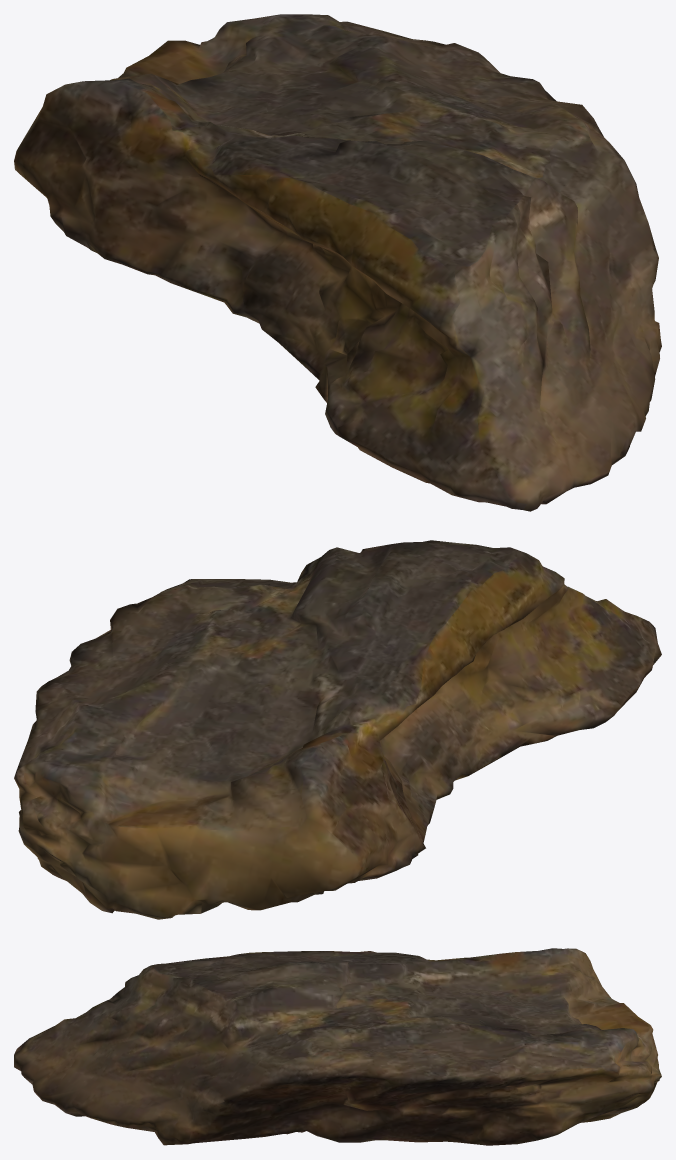
Rendered from rock_09.glb.
3 renders of one model, top to bottom at view 1: azimuth 30°, elevation 25°; view 2: azimuth 150°, elevation 25°; view 3: azimuth 270°, elevation 25°, orthographic. The views are drawn at different scales.
Visible parts, largest first — view 1: rock_09_LOD0; view 2: rock_09_LOD0; view 3: rock_09_LOD0.
Part boxes in pixels (bbox=[...]): rock_09_LOD0: bbox=[14, 14, 661, 511]; rock_09_LOD0: bbox=[14, 540, 661, 919]; rock_09_LOD0: bbox=[14, 948, 661, 1145].
Bounding box in the file's own units: 0.074 × 0.0328 × 0.1446.
1 material, 1 textured.
